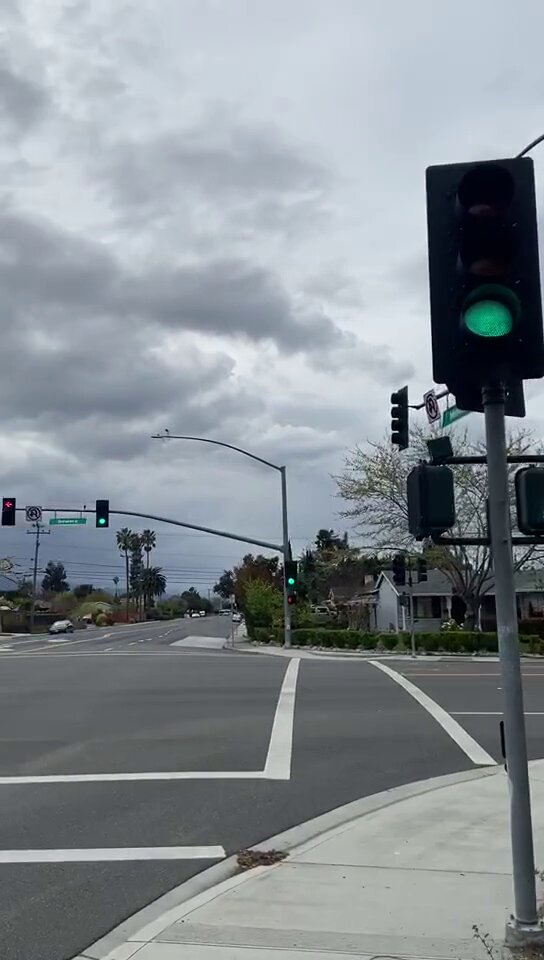green_light: (433, 165, 534, 373), (285, 561, 297, 585), (98, 500, 107, 527)
